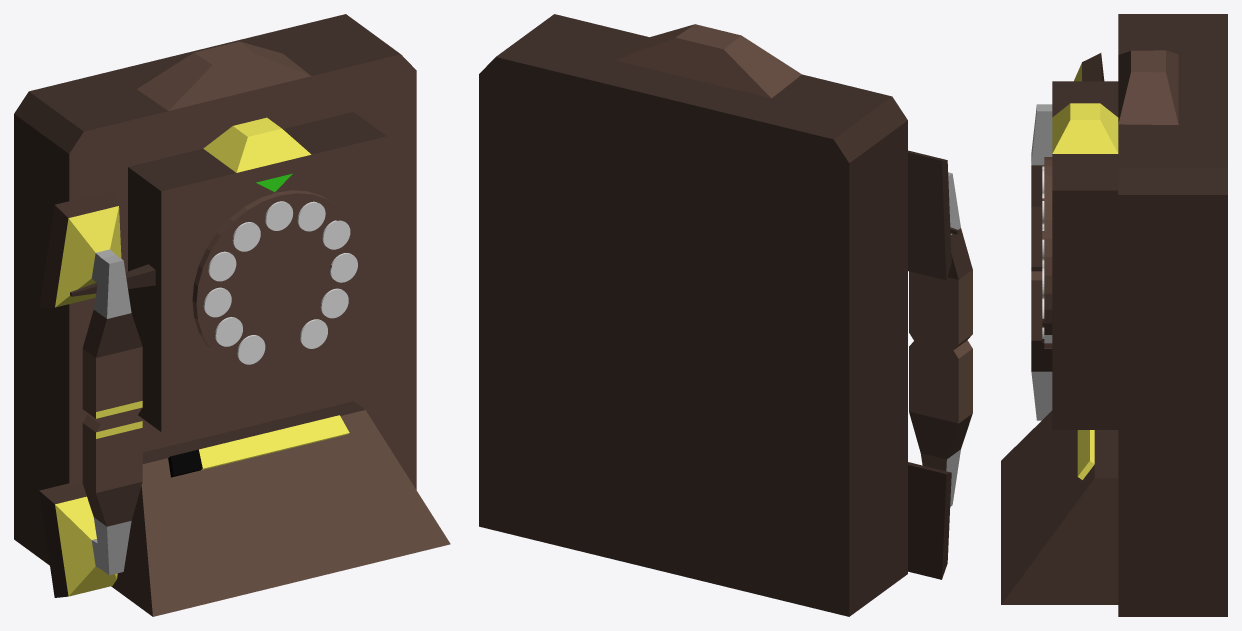
Rendered from Telefone.fbx.
3 renders of one model, left to right at view 1: azimuth 30°, elevation 25°; view 2: azimuth 150°, elevation 25°; view 3: azimuth 270°, elevation 25°, orthographic. The views are drawn at different scales.
Visible parts, largest first — view 1: Cube, Cube.001; view 2: Cube, Cube.001; view 3: Cube, Cube.001.
Boxes of the visible parts, <box> form: Cube: <box>14,14,450,616</box>; Cube.001: <box>39,190,142,597</box>; Cube: <box>479,14,958,616</box>; Cube.001: <box>908,150,972,579</box>; Cube: <box>1001,14,1227,616</box>; Cube.001: <box>1031,53,1104,420</box>.
Bounding box in the file's own units: 3672 × 1907 × 4424.
